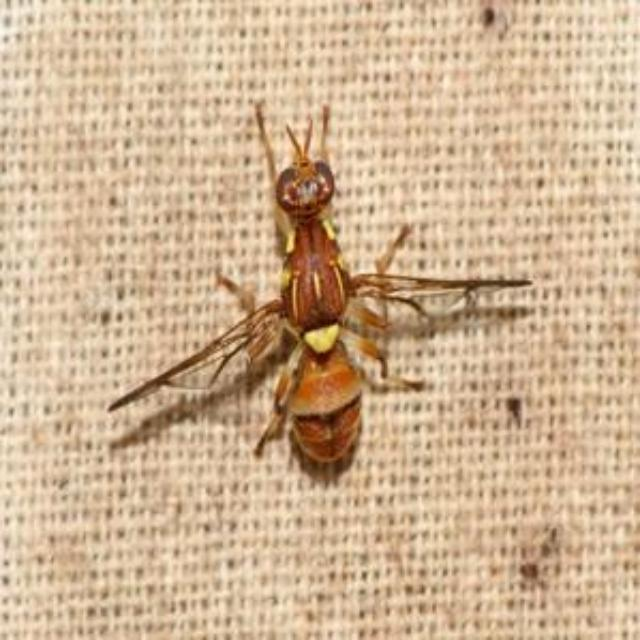melon fly: (88, 74, 546, 516)
